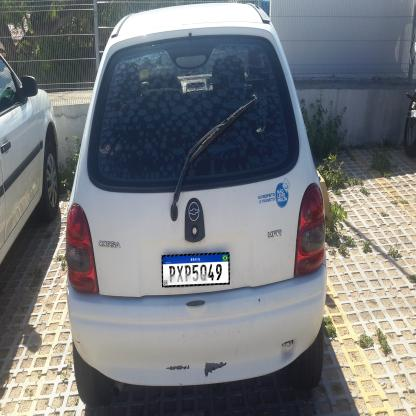PlacaM: (162, 252, 230, 287)
